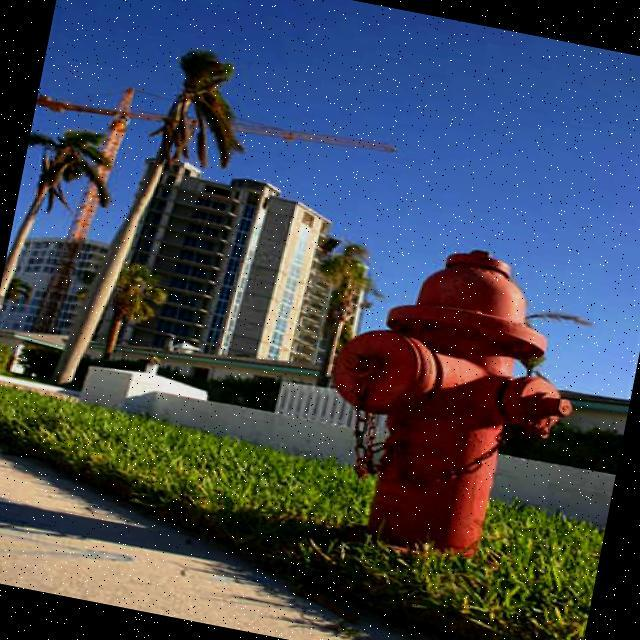fire_hydrant: (300, 225, 600, 578)
